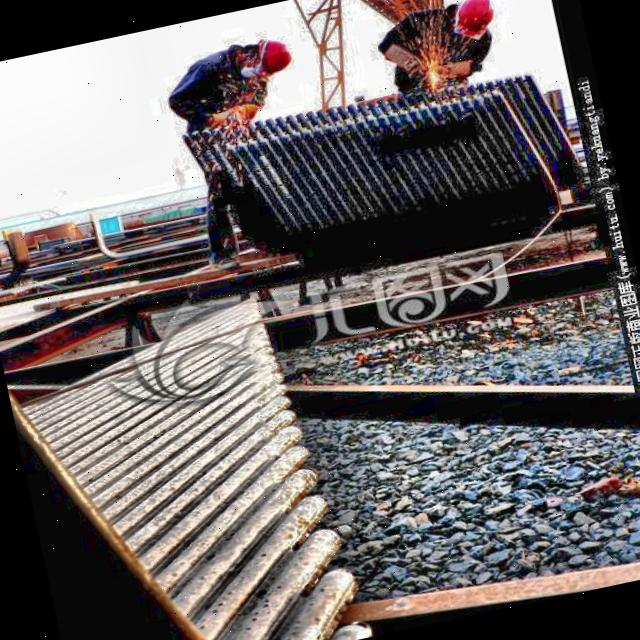helmet: (224, 33, 296, 89), (446, 0, 503, 50)
